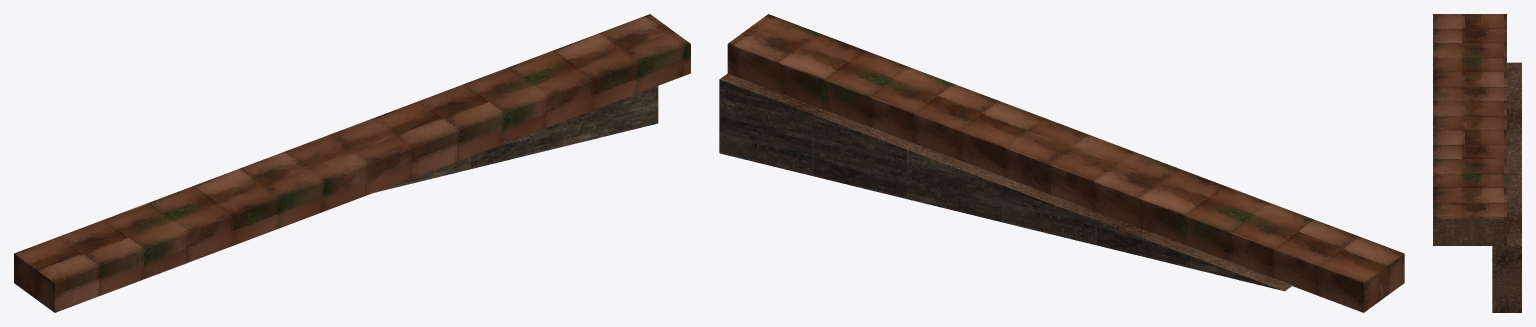
Rendered from roof_15_R.glb.
3 views of the same model, side by side, from view 1: azimuth 30°, elevation 25°; view 2: azimuth 150°, elevation 25°; view 3: azimuth 270°, elevation 25° (orthographic). The views are drawn at different scales.
Parts seen in each view (by area): view 1: roof_15_R2; view 2: roof_15_R2; view 3: roof_15_R2.
Part boxes in pixels (box(x1,y1,x2,y2)): roof_15_R2: box(14, 14, 690, 312); roof_15_R2: box(719, 14, 1404, 312); roof_15_R2: box(1433, 14, 1521, 312).
Size of the model in its own units: 4.5 by 0.77 by 0.6.
1 material, 1 textured.
